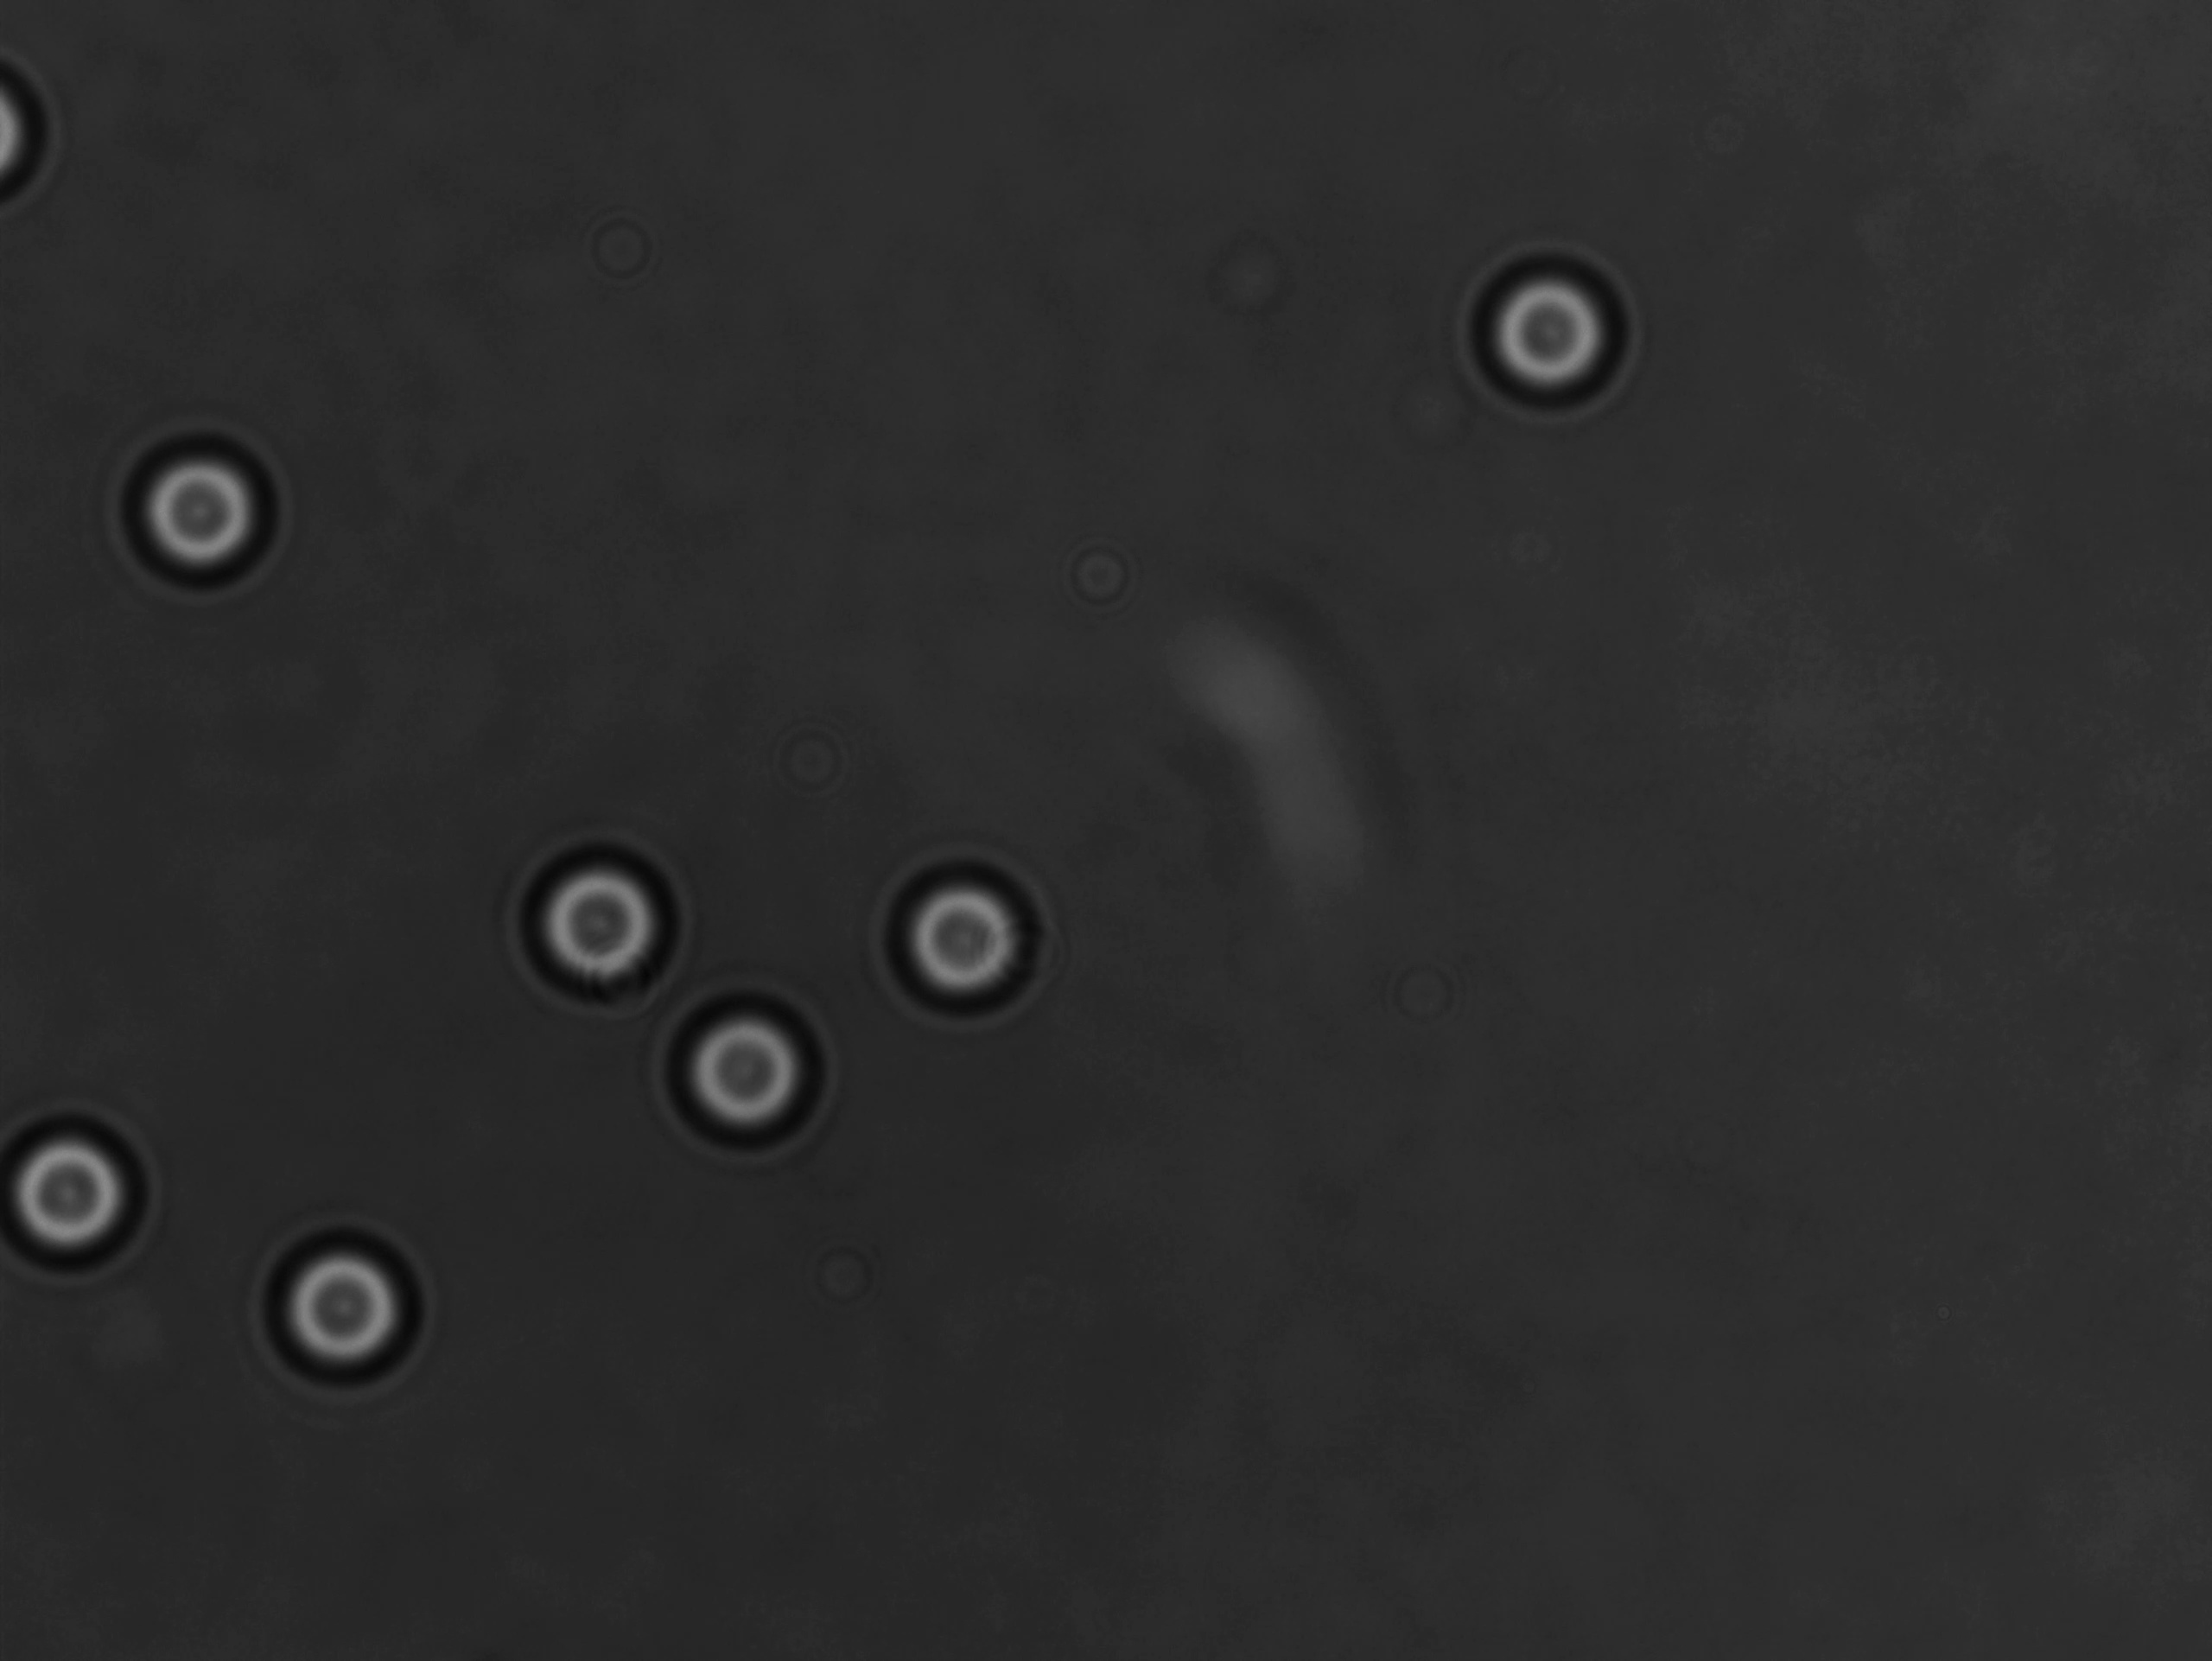depth:20: (876, 855, 1054, 1026), (1462, 253, 1633, 424), (652, 989, 825, 1152), (255, 1227, 420, 1389), (515, 844, 684, 1003), (117, 431, 277, 597)
